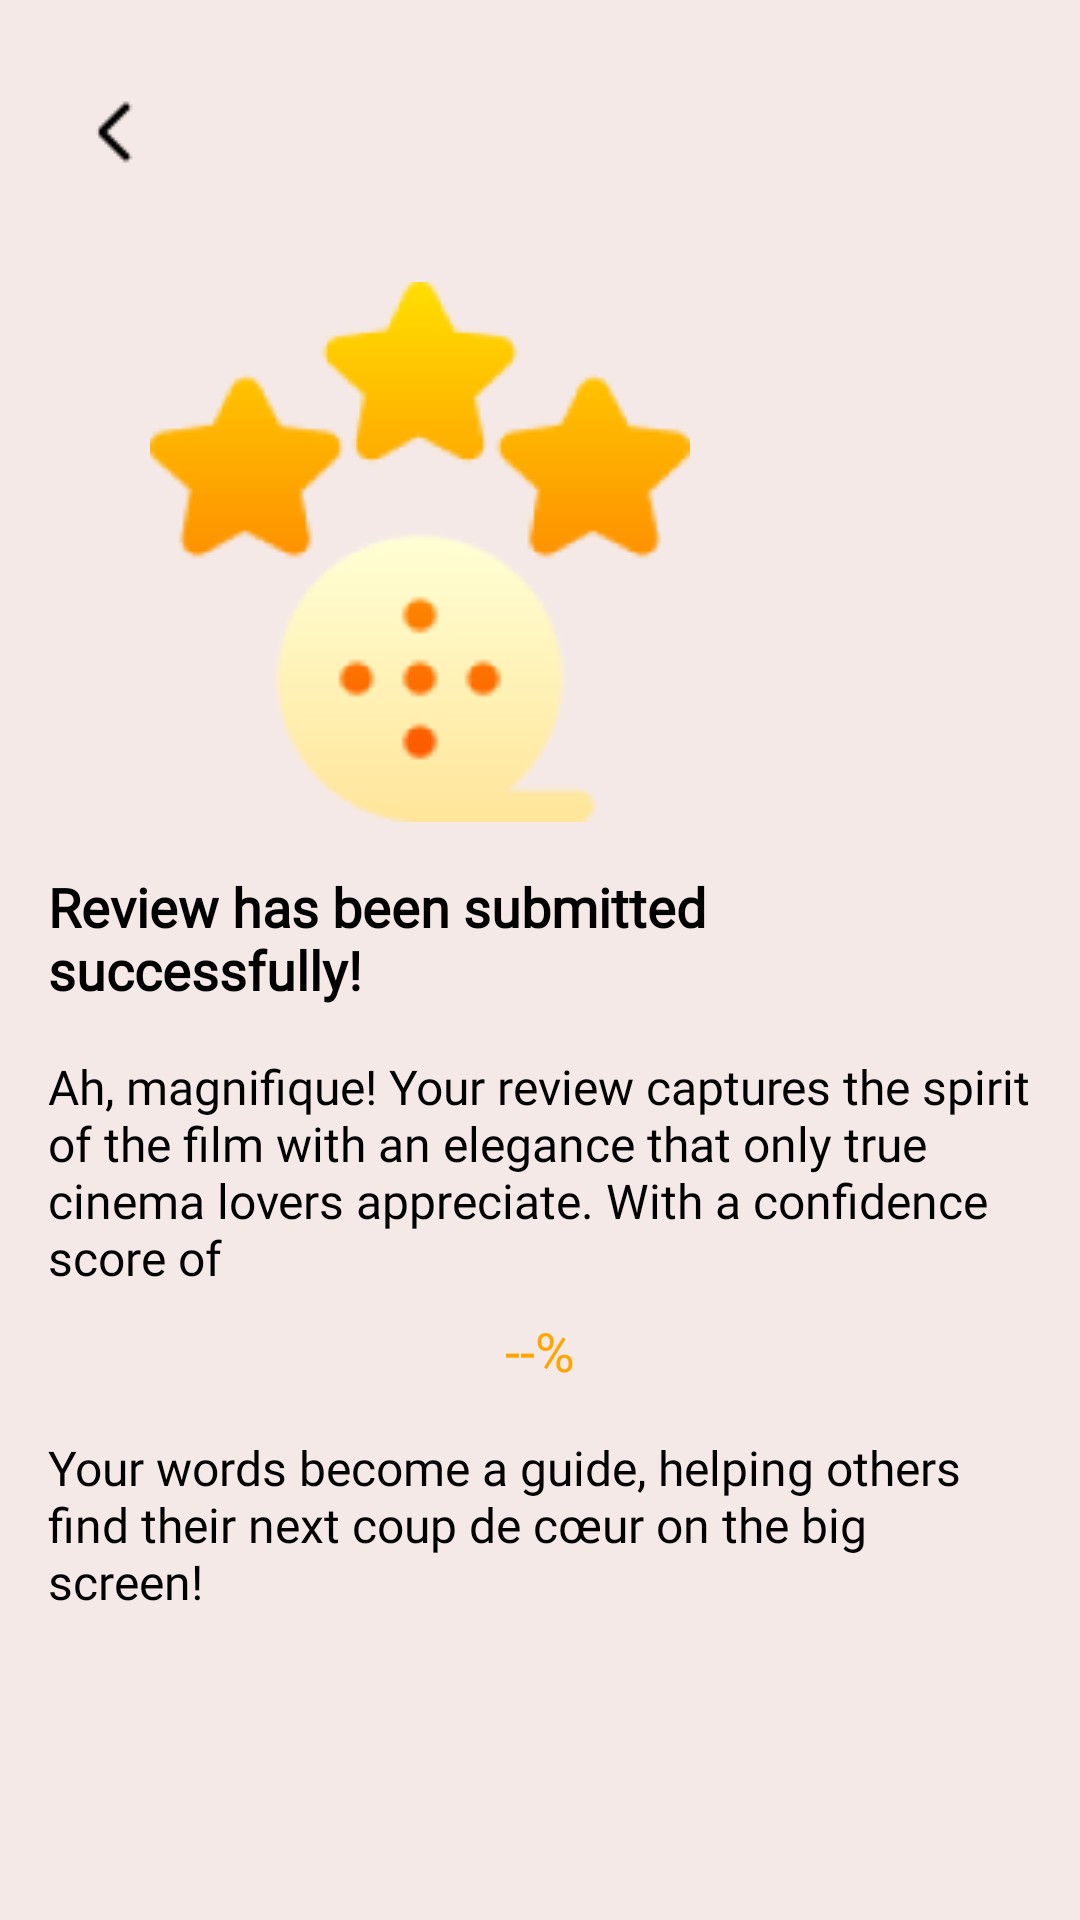

Locate icon controls on the screen. Image size 1080x1920, boxes as (x1, y1, x2, y2).
Back: (98, 101, 132, 163)
